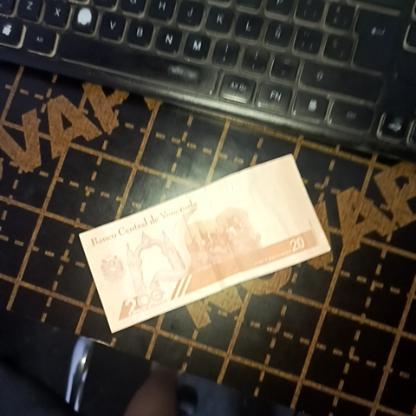twenty-back-vef: (78, 152, 333, 334)
